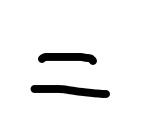eqv: (28, 49, 113, 100)
